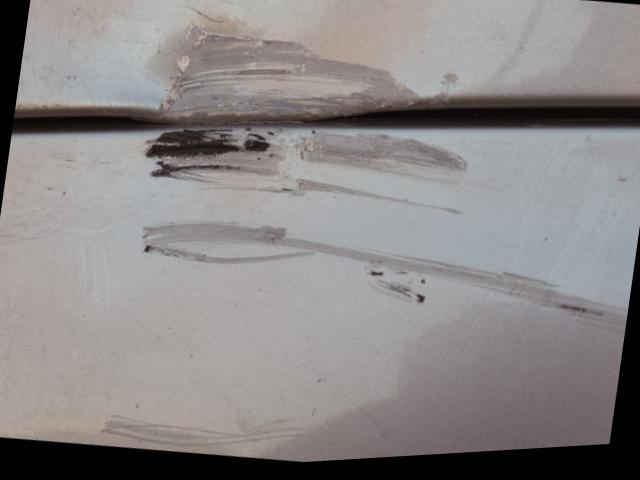scratch: (102, 127, 628, 457), (149, 23, 450, 130)
